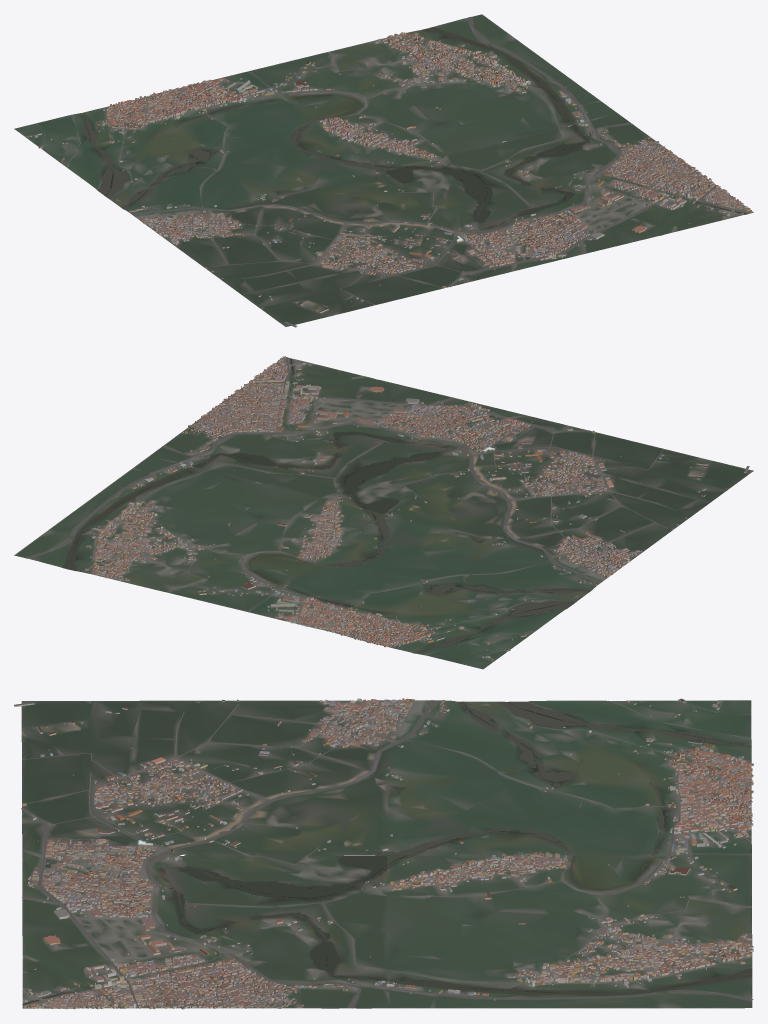
3 views of the same model, one above another, from view 1: azimuth 30°, elevation 25°; view 2: azimuth 150°, elevation 25°; view 3: azimuth 270°, elevation 25° (orthographic). The views are drawn at different scales.
Parts seen in each view (by area): view 1: ground, buildings, water, roads; view 2: ground, buildings, water, roads; view 3: ground, buildings, water, roads.
Boxes of the visible parts, left/top/right/bottom form: ground: left=14, top=14, right=753, bottom=326; buildings: left=27, top=32, right=752, bottom=327; water: left=82, top=27, right=747, bottom=261; roads: left=25, top=17, right=751, bottom=305; ground: left=14, top=357, right=753, bottom=669; buildings: left=85, top=356, right=749, bottom=660; water: left=63, top=358, right=591, bottom=653; roads: left=25, top=357, right=676, bottom=661; ground: left=21, top=700, right=752, bottom=1008; buildings: left=14, top=698, right=753, bottom=1009; water: left=22, top=701, right=751, bottom=1004; roads: left=21, top=700, right=753, bottom=1008.
Bounding box in the file's own units: 2817 × 35.06 × 2843.
